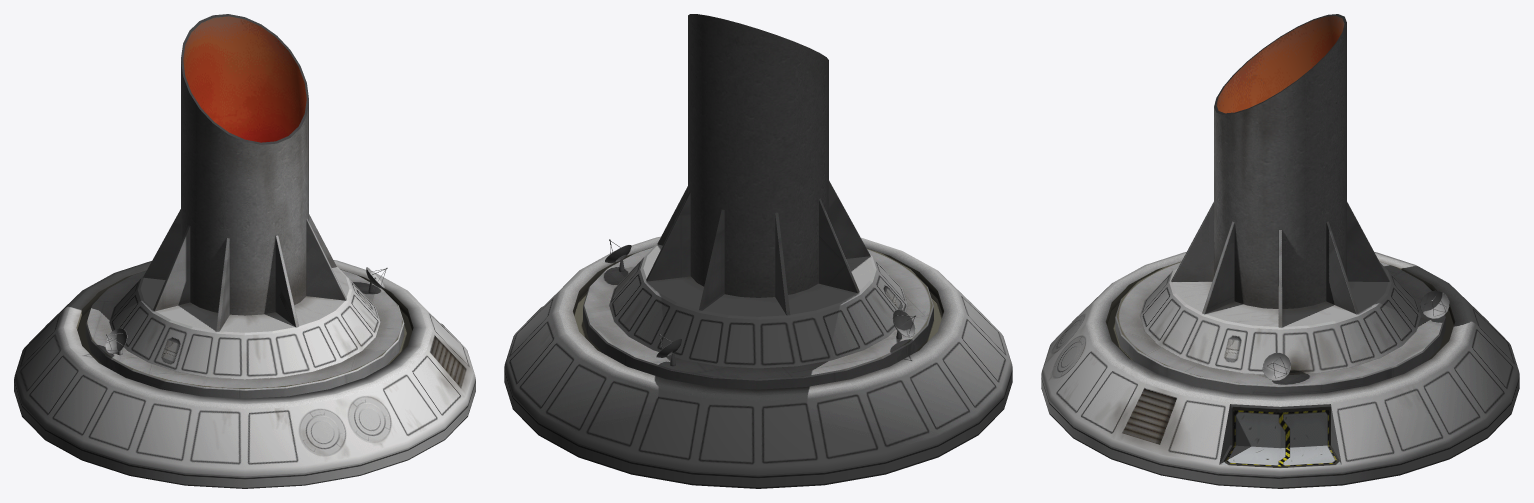
Rendered from OBJ_Exhaust_Twr.FBX.
3 views of the same model, side by side, from view 1: azimuth 30°, elevation 25°; view 2: azimuth 150°, elevation 25°; view 3: azimuth 270°, elevation 25° (orthographic). The views are drawn at different scales.
Visible parts, largest first — view 1: OBJ_Exhaust_Twr; view 2: OBJ_Exhaust_Twr; view 3: OBJ_Exhaust_Twr.
Boxes of the visible parts, box(x1,y1,x2,y2) form: OBJ_Exhaust_Twr: box(14, 14, 475, 488); OBJ_Exhaust_Twr: box(504, 14, 1012, 488); OBJ_Exhaust_Twr: box(1041, 14, 1519, 488).
Size of the model in its own units: 27.5 by 23.17 by 27.5.
1 material, 1 textured.
